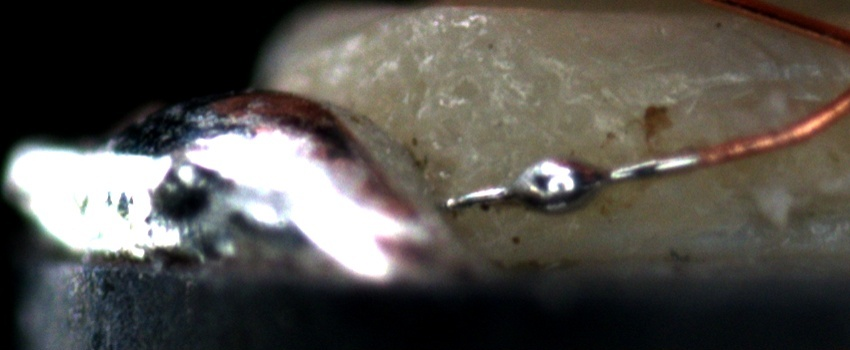DL: (524, 56, 850, 96)
TB: (504, 158, 606, 220)
TS: (439, 151, 697, 211)
TTCW: (426, 135, 766, 215)
